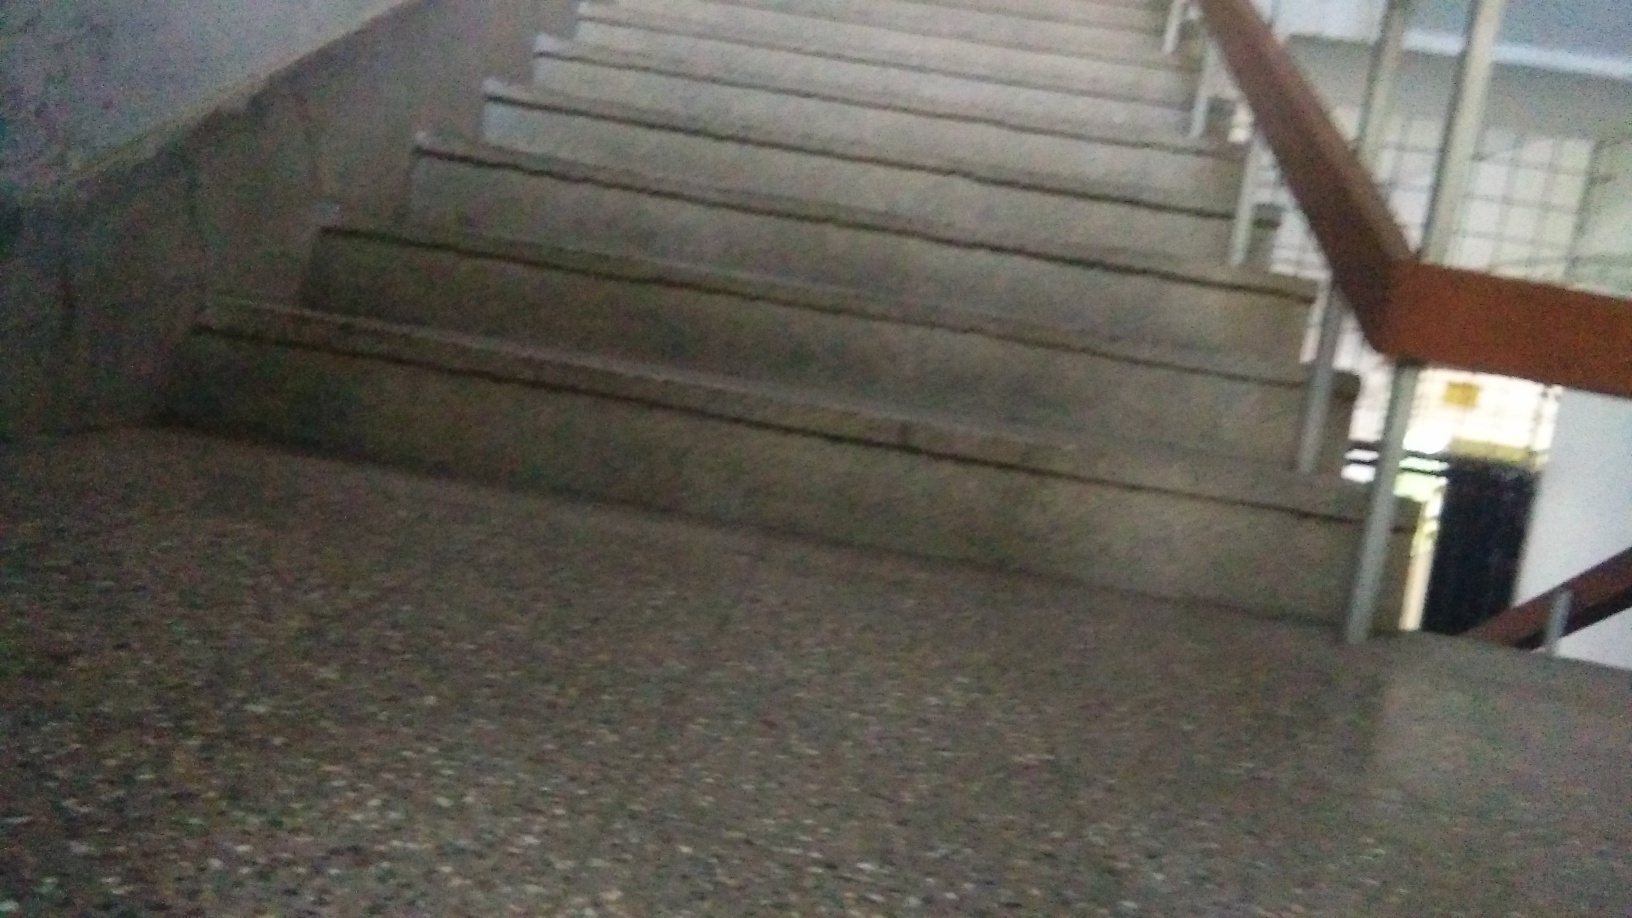stairs_up: (112, 2, 1418, 602)
